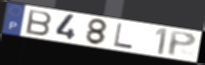1: (154, 27, 168, 56)
4: (55, 13, 80, 43)
8: (85, 18, 109, 46)
B: (25, 8, 54, 37)
L: (113, 22, 135, 50)
P: (166, 30, 198, 58)
